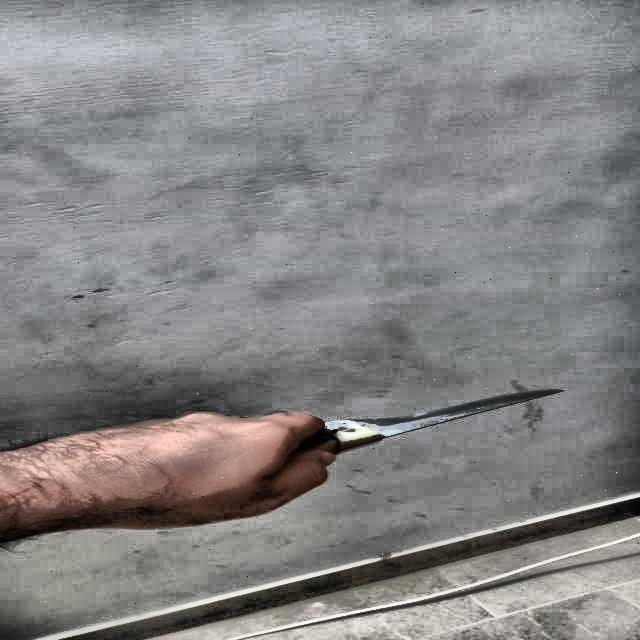knife: (294, 389, 564, 452)
